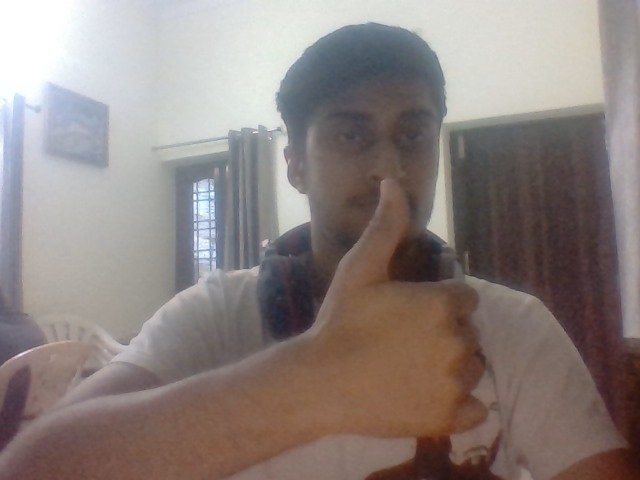ThumbsUp: (317, 177, 489, 437)
